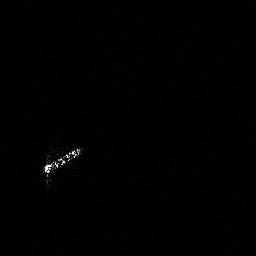ship: (43, 148, 81, 173)
